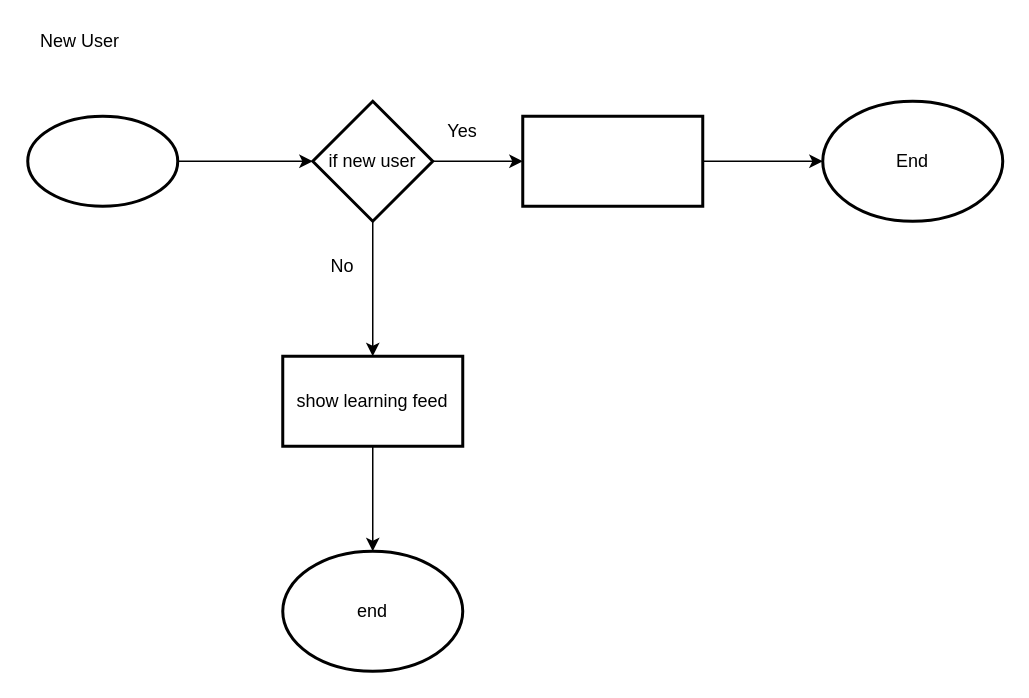
Image size: 1029x698. Some labels were removed from this diagram. Each missing label, with the box of its shape:
show learning category: (520, 114, 704, 207)
Start: (26, 114, 178, 207)
